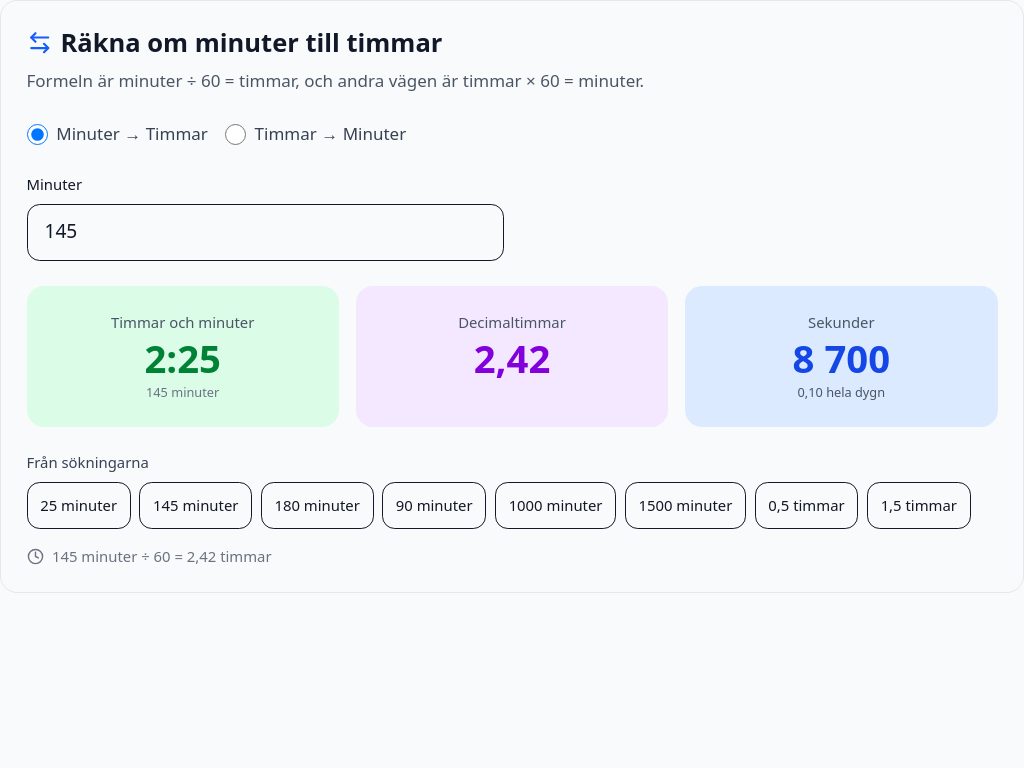
Test case: MinutterTilTimerBeregner › svensk decimal med komma læses som komma, ikke som to tal
The image size is (1024, 768).
Click the radio button labelled "Timmar → Minuter".
click(236, 134)  # box [225, 124, 246, 145]
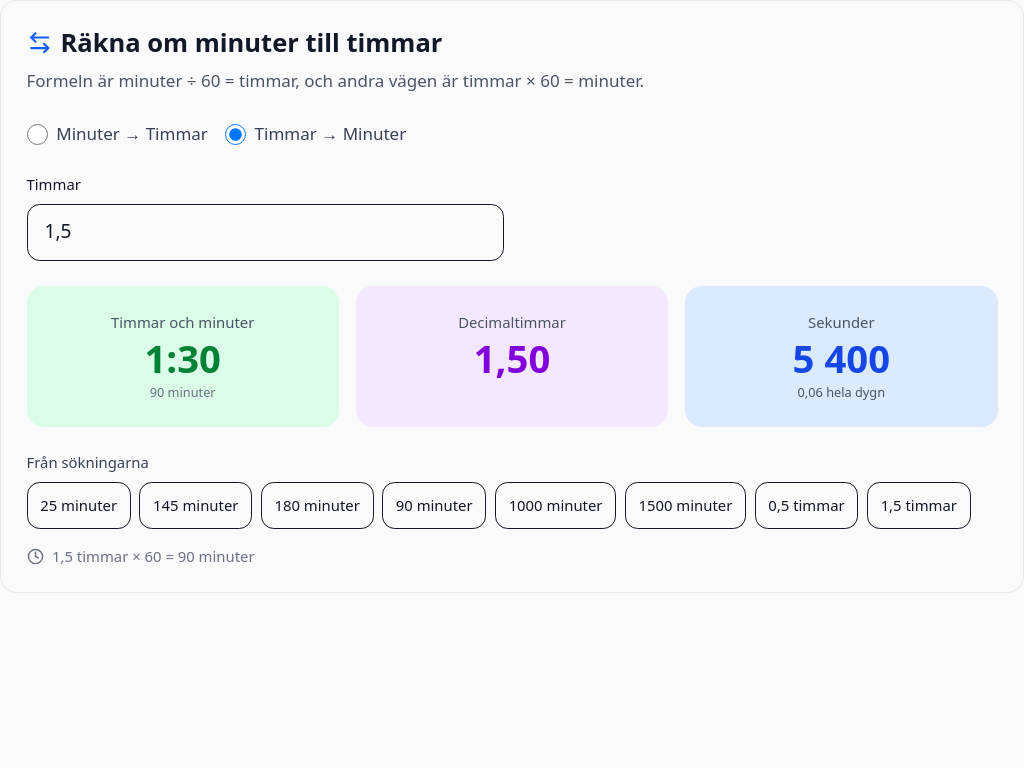
expect the field labelled "Timmar" holds "1,5": met, box [26, 204, 504, 261]
expect the text "1,5 timmar × 60 = 90 minuter" is shown: met, box [52, 546, 255, 567]
